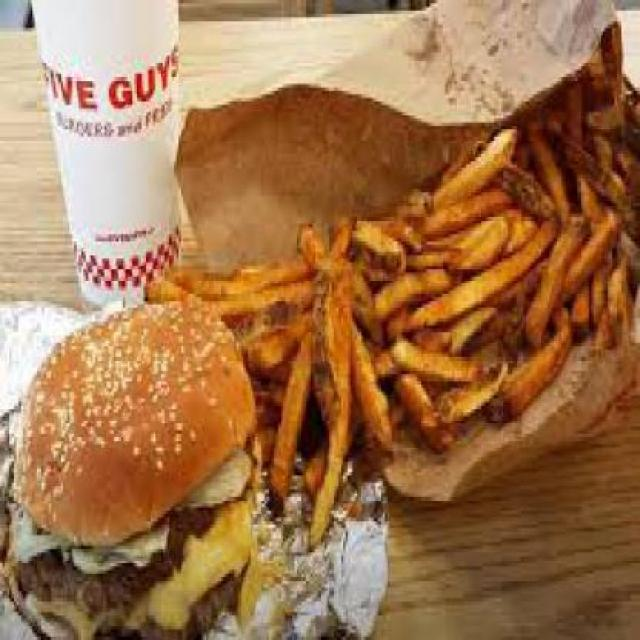french fries: (145, 52, 638, 552)
